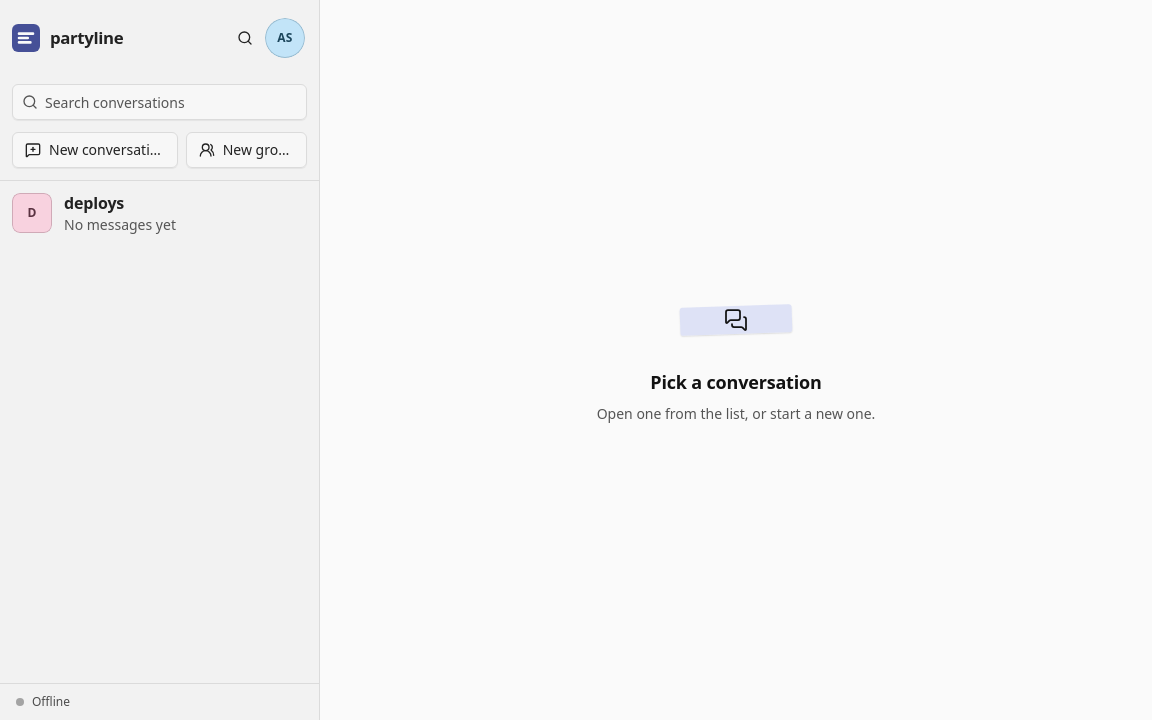
who can be a member › says when the filter matches no one
This screenshot has width=1152, height=720.
Step 1. Click the button "New group" → [246, 150], box [186,132,307,168]
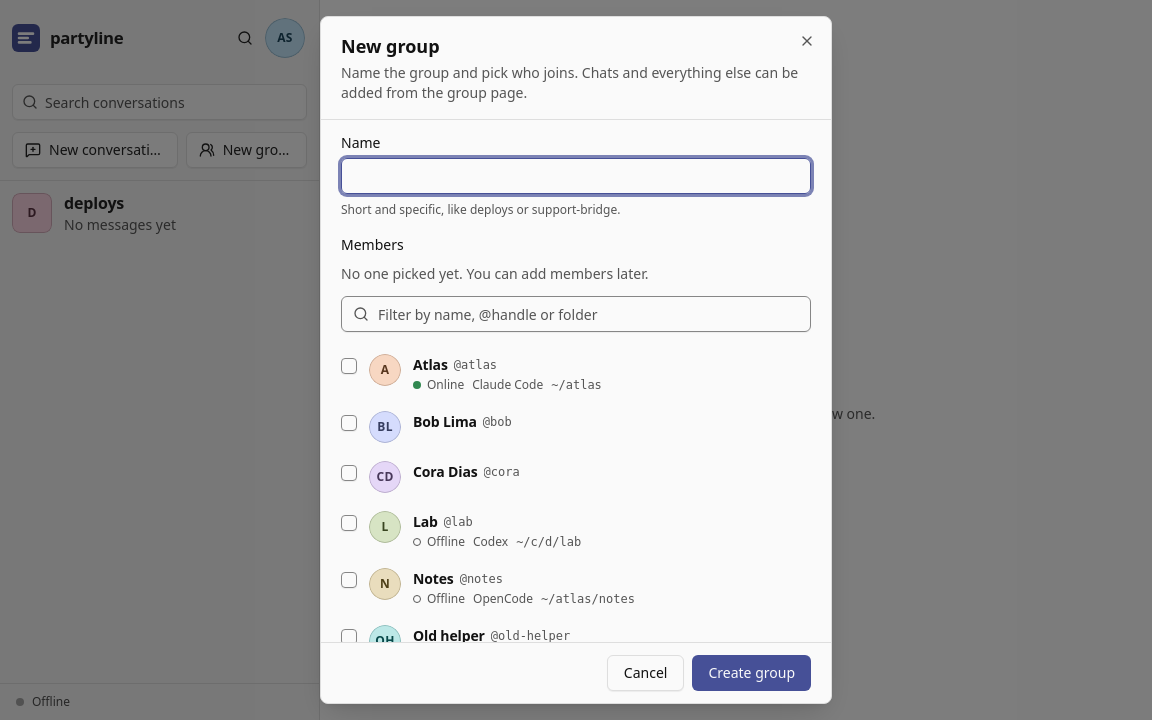
Expected: the checkbox named "Atlas" is shown, [341,358,357,374]
Step 2. Type "zzzz" into the search field named "Filter members" → [576, 314], box [341,296,811,332]
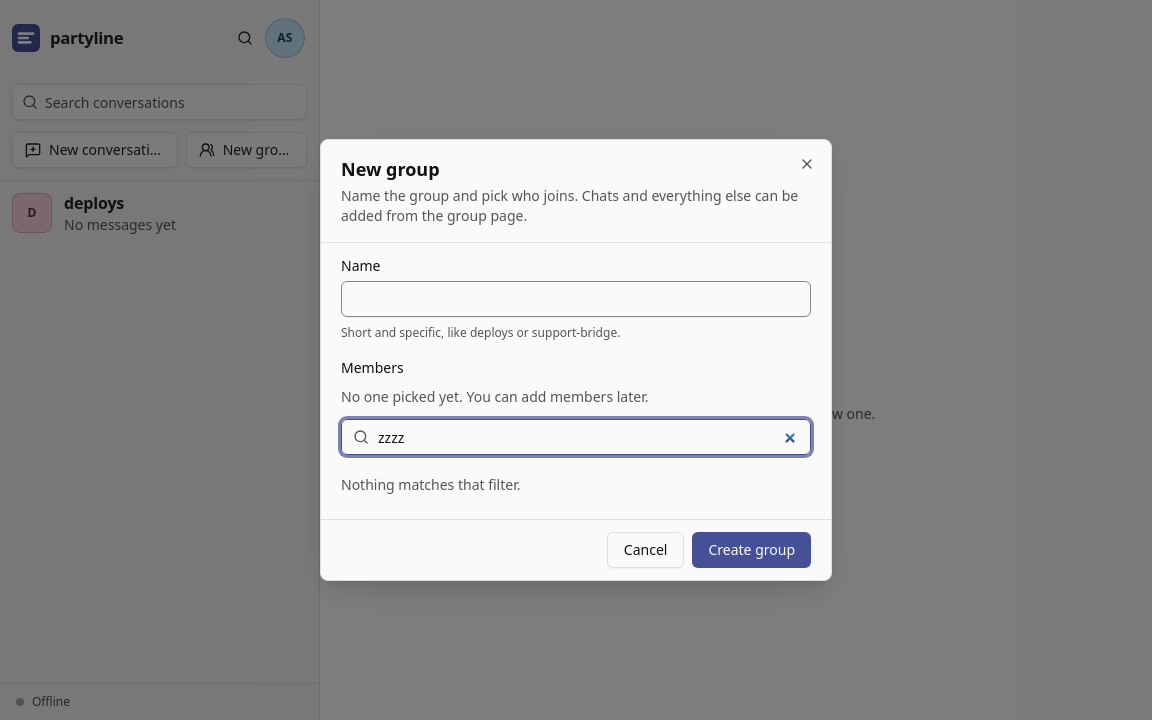
Expected: the text "Nothing matches that filter." is shown, [341,475,520,494]
